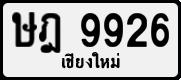letters: (11, 10, 38, 49), (39, 10, 62, 55), (79, 11, 101, 49), (126, 10, 148, 48), (103, 10, 124, 49), (150, 10, 170, 48)
province: (60, 51, 123, 70)
